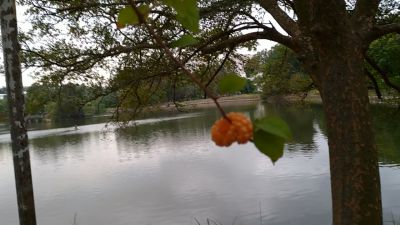eggs: (211, 111, 254, 148)
